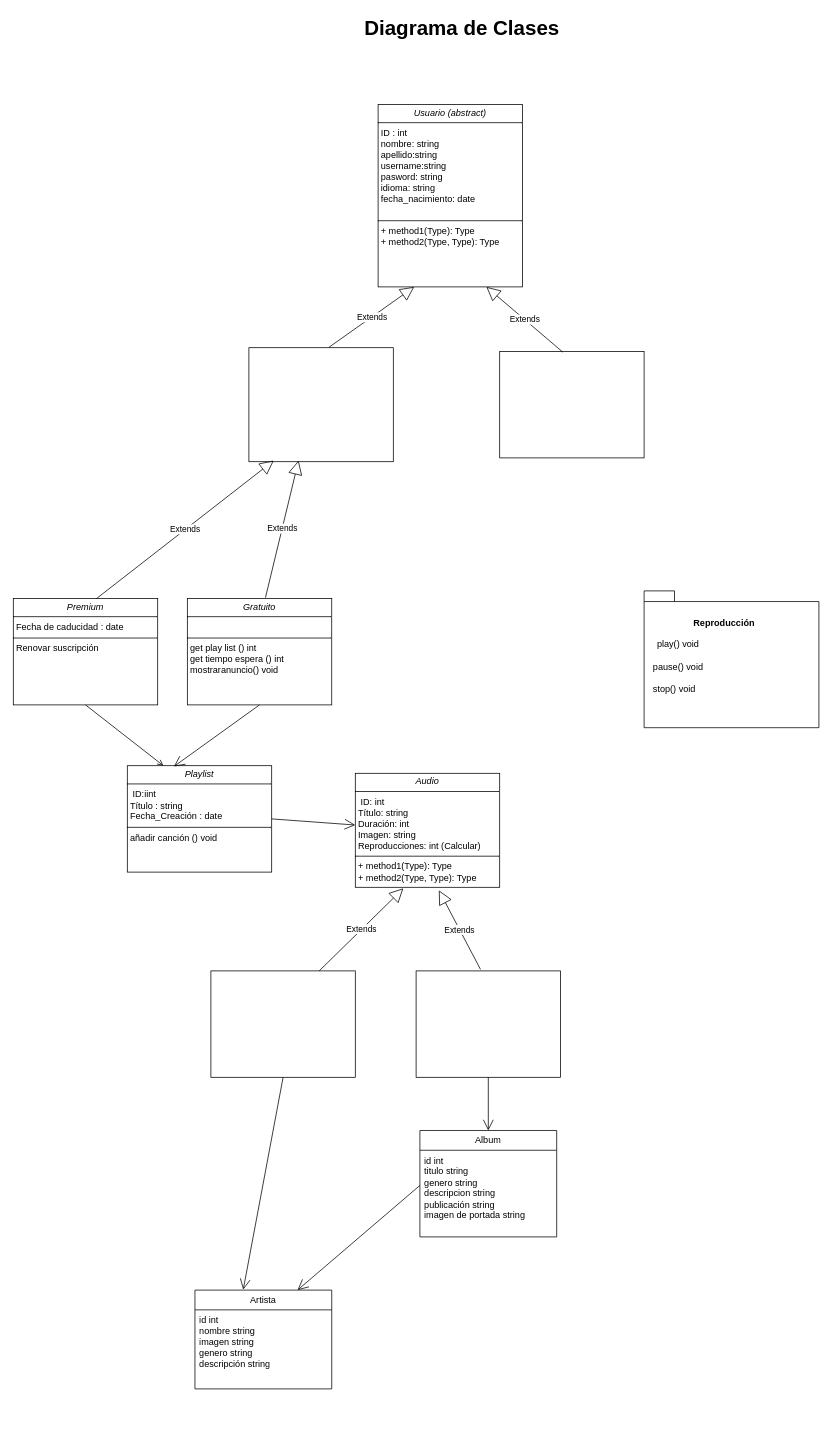
Some shapes in this 832 by 1447 pixel diagram are drawn without their labels. Here are the shapes that lost their labels. From the top down, the centre of each, then its label:
At (320,404): "Cliente fecha registro: date es premium: bolean registrarse ver perfil".
At (571,404): "Administrador Gestionar música Gestionar podcast Ver estadística".
At (282,1023): "Podcast colaboradores string velocidad set velocidad ()".
At (487,1023): "Canción artistas string exportar fichero".
